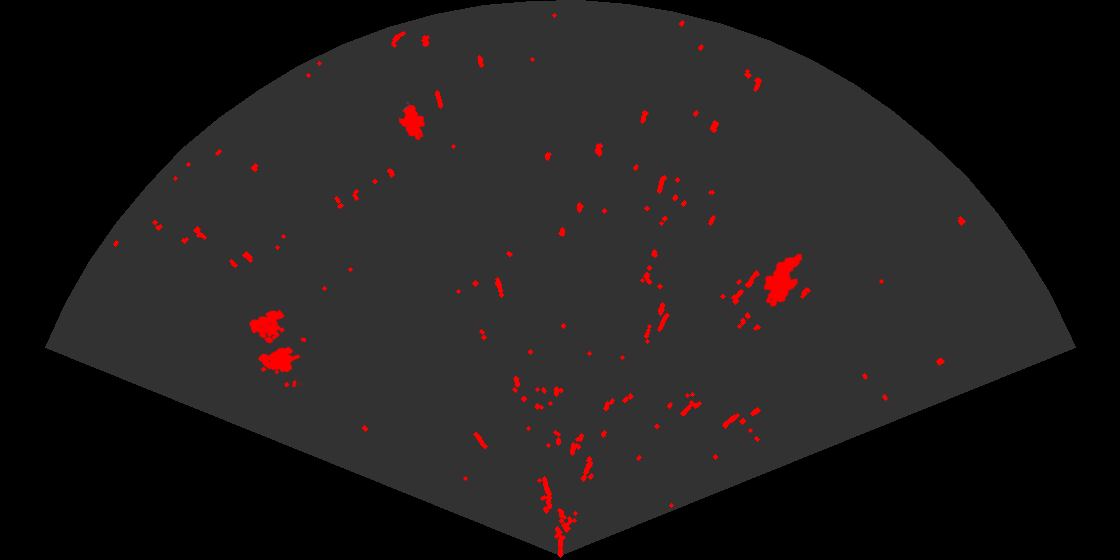AUV: (762, 252, 804, 309), (397, 100, 427, 142)
cage: (248, 308, 306, 387)
